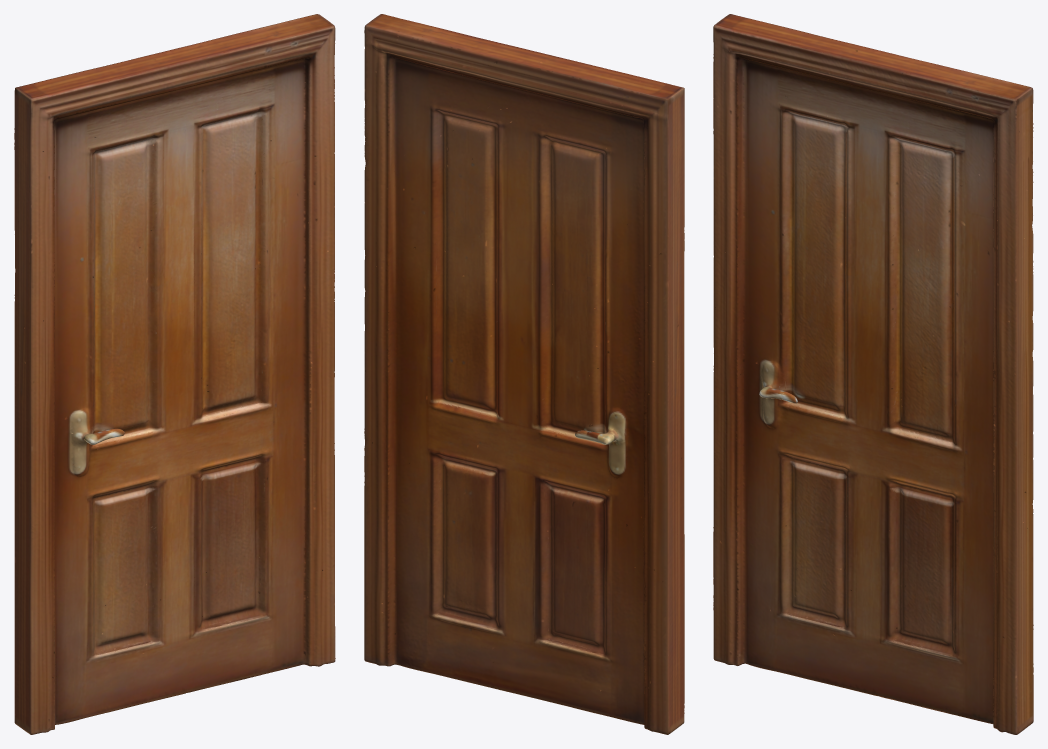
Rendered from Six panel wooden door.glb.
3 renders of one model, left to right at view 1: azimuth 30°, elevation 25°; view 2: azimuth 150°, elevation 25°; view 3: azimuth 330°, elevation 25°, orthographic.
Bounding box in the file's own units: 1 × 2 × 0.1818.
1 material, 1 textured.
